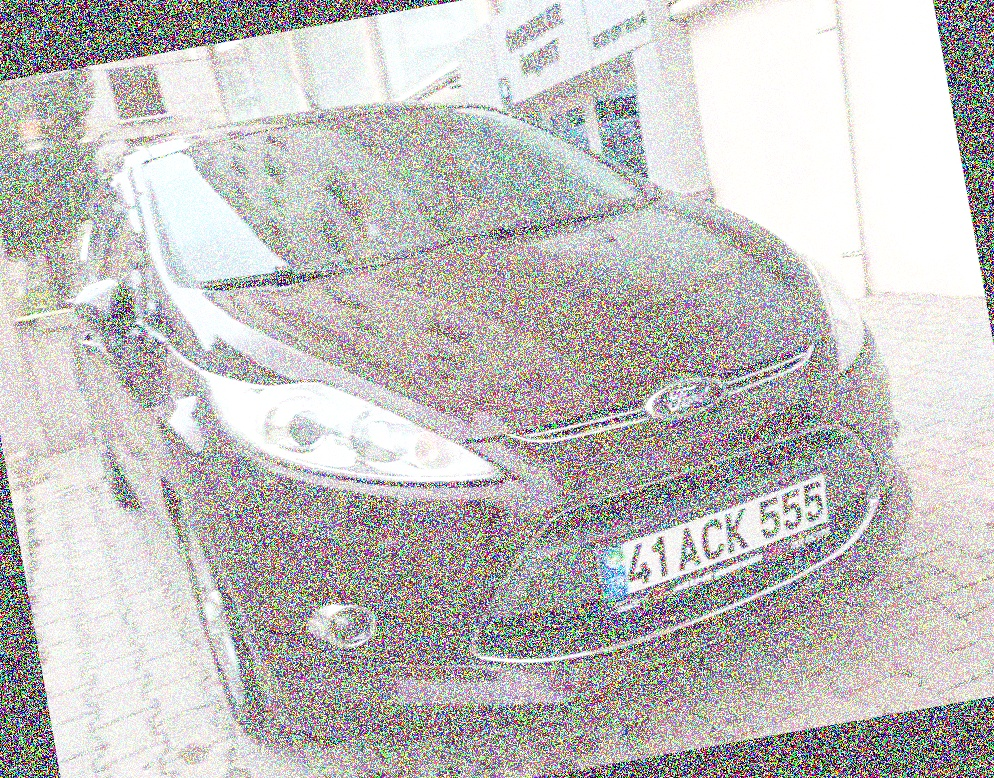plaka: (624, 471, 839, 590)
